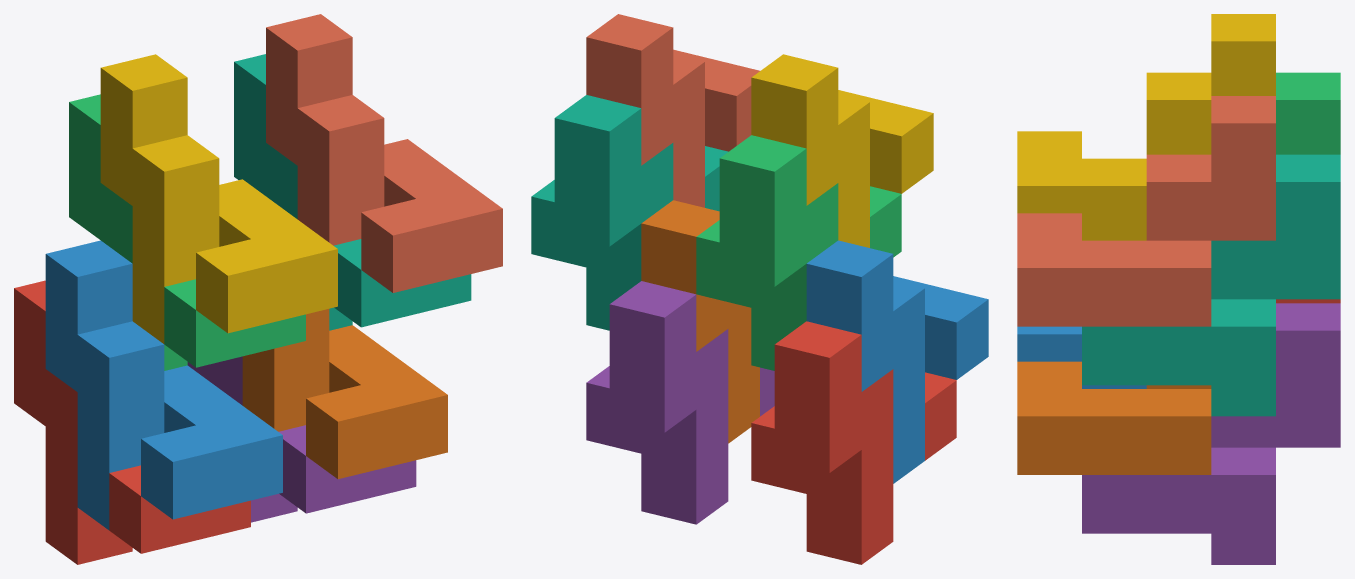
File: tiling.obj
3 views of the same model, side by side, from view 1: azimuth 30°, elevation 25°; view 2: azimuth 150°, elevation 25°; view 3: azimuth 270°, elevation 25° (orthographic).
Visible parts, largest first — view 1: copy_1_domain_4, copy_1_domain_2, copy_1_domain_8, copy_1_domain_6, copy_1_domain_1, copy_1_domain_3, copy_1_domain_7, copy_1_domain_5; view 2: copy_1_domain_1, copy_1_domain_5, copy_1_domain_3, copy_1_domain_7, copy_1_domain_2, copy_1_domain_4, copy_1_domain_8, copy_1_domain_6; view 3: copy_1_domain_8, copy_1_domain_7, copy_1_domain_5, copy_1_domain_4, copy_1_domain_6, copy_1_domain_3, copy_1_domain_2.
Part boxes in pixels (x1,y1,x2,y2): copy_1_domain_4: (100,54,337,343); copy_1_domain_2: (45,240,282,530); copy_1_domain_8: (266,14,502,292); copy_1_domain_6: (242,309,447,479); copy_1_domain_1: (14,280,250,564); copy_1_domain_3: (69,94,305,370); copy_1_domain_7: (234,54,471,330); copy_1_domain_5: (187,356,416,522); copy_1_domain_1: (751,321,956,564); copy_1_domain_5: (586,281,774,524); copy_1_domain_3: (696,135,901,370); copy_1_domain_7: (531,95,728,330); copy_1_domain_2: (806,240,988,483); copy_1_domain_4: (751,54,933,247); copy_1_domain_8: (586,14,759,207); copy_1_domain_6: (641,200,759,443); copy_1_domain_8: (1017,96,1275,326); copy_1_domain_7: (1082,154,1340,416); copy_1_domain_5: (1082,303,1340,564); copy_1_domain_4: (1017,14,1275,240); copy_1_domain_6: (1017,361,1211,474); copy_1_domain_3: (1276,72,1340,154); copy_1_domain_2: (1017,326,1146,388).
Size of the model in its own units: 6 by 8 by 5.
